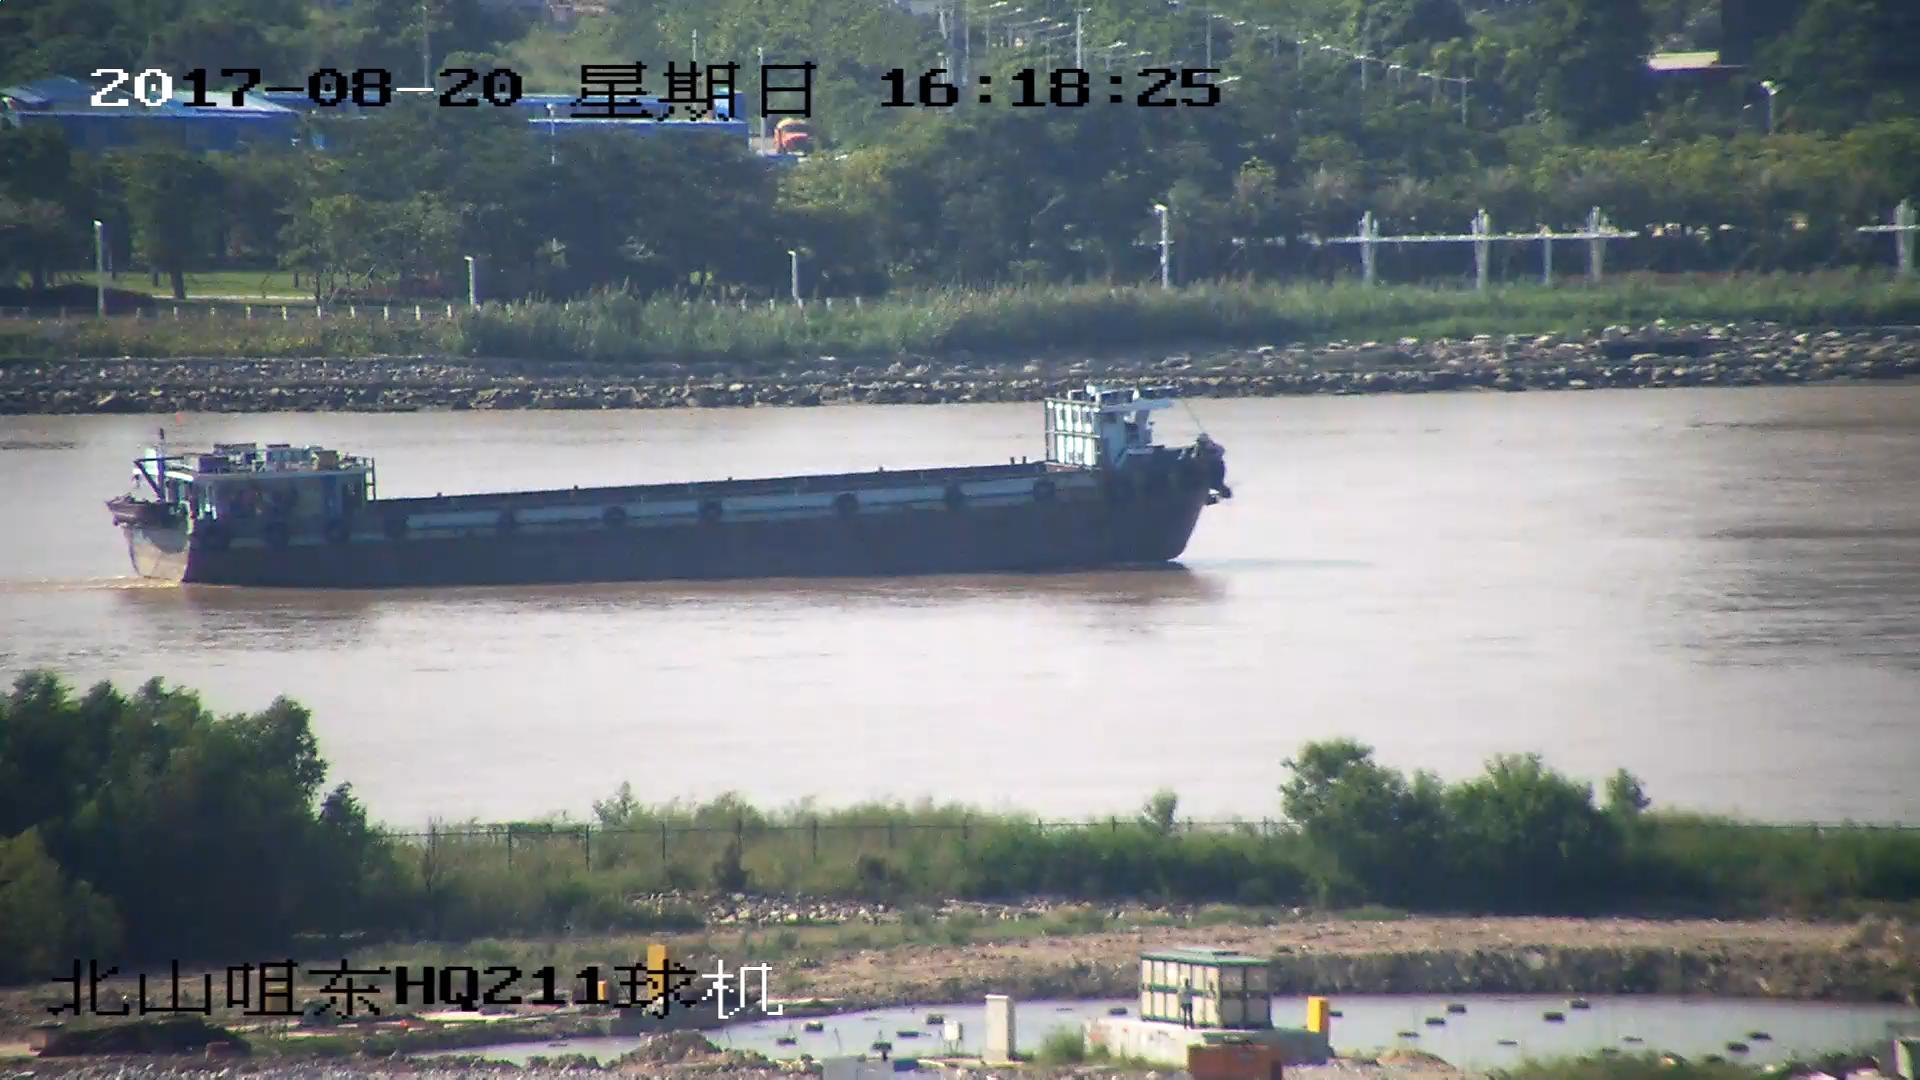Ship: (112, 377, 1236, 583)
